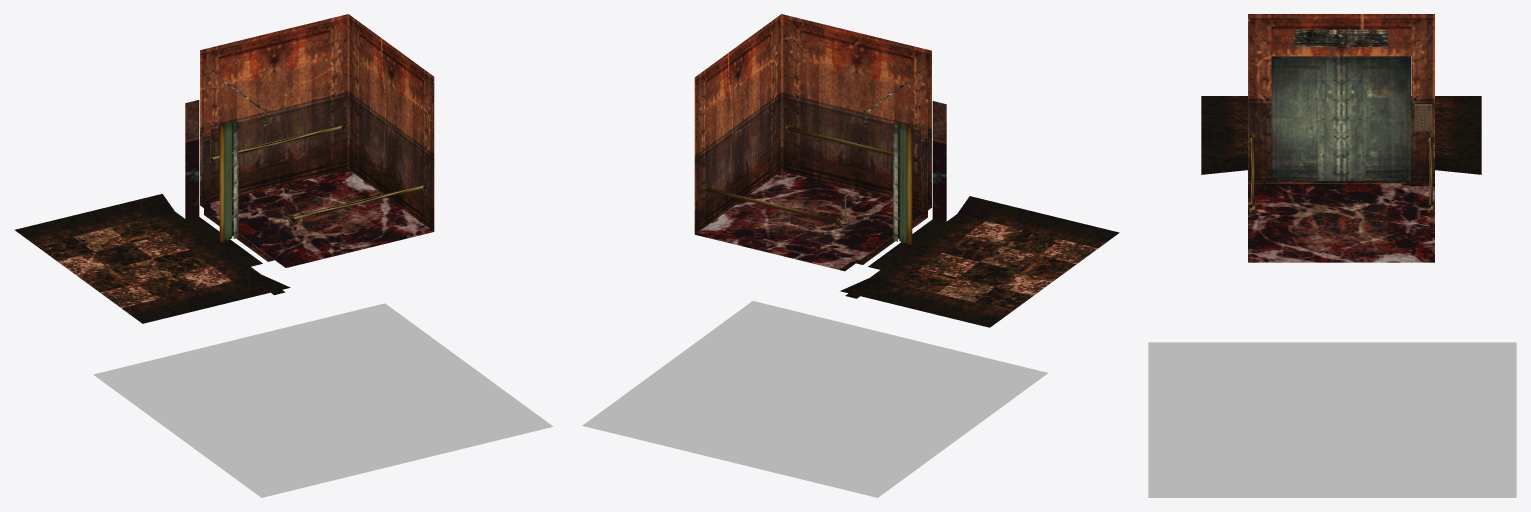
File: ERFDFE.glb
3 views of the same model, side by side, from view 1: azimuth 30°, elevation 25°; view 2: azimuth 150°, elevation 25°; view 3: azimuth 270°, elevation 25° (orthographic). The views are drawn at different scales.
Visible parts, largest first — view 1: DR1L_HID_m0, NL1_m1, NL_BACK2_m0, NL1_m0, DR2R_HID_m0, NL_NEAR_m0, DR3R_HID_m0, DR1R_HID_m0, NL_NEAR_m1; view 2: DR1L_HID_m0, NL1_m0, NL_BACK2_m0, NL1_m1, DR2L_HID_m0, NL_NEAR_m0, DR3L_HID_m0, NL_NEAR_m1; view 3: DR1L_HID_m0, NL1_m1, DR1R_HID_m0, NL_BACK2_m0, NL_NEAR_m0.
Part boxes in pixels (x1,y1,x2,y2): DR1L_HID_m0: (93, 303, 553, 497); NL1_m1: (200, 14, 433, 267); NL_BACK2_m0: (15, 100, 290, 323); NL1_m0: (348, 14, 434, 231); DR2R_HID_m0: (223, 122, 232, 240); NL_NEAR_m0: (202, 80, 345, 162); DR3R_HID_m0: (219, 125, 224, 242); DR1R_HID_m0: (233, 122, 238, 238); NL_NEAR_m1: (288, 183, 427, 223); DR1L_HID_m0: (582, 123, 1047, 497); NL1_m0: (694, 14, 931, 234); NL_BACK2_m0: (840, 101, 1119, 327); NL1_m1: (695, 98, 931, 271); DR2L_HID_m0: (899, 123, 908, 242); NL_NEAR_m0: (701, 81, 909, 225); DR3L_HID_m0: (907, 126, 912, 244); NL_NEAR_m1: (784, 124, 920, 165); DR1L_HID_m0: (1148, 56, 1516, 497); NL1_m1: (1248, 14, 1434, 262); DR1R_HID_m0: (1341, 56, 1411, 180); NL_BACK2_m0: (1201, 96, 1481, 179); NL_NEAR_m0: (1294, 30, 1434, 213).
Bounding box in the file's own units: 8.34 × 6.9 × 6.3.
Materials: 15 (14 with a texture image).
